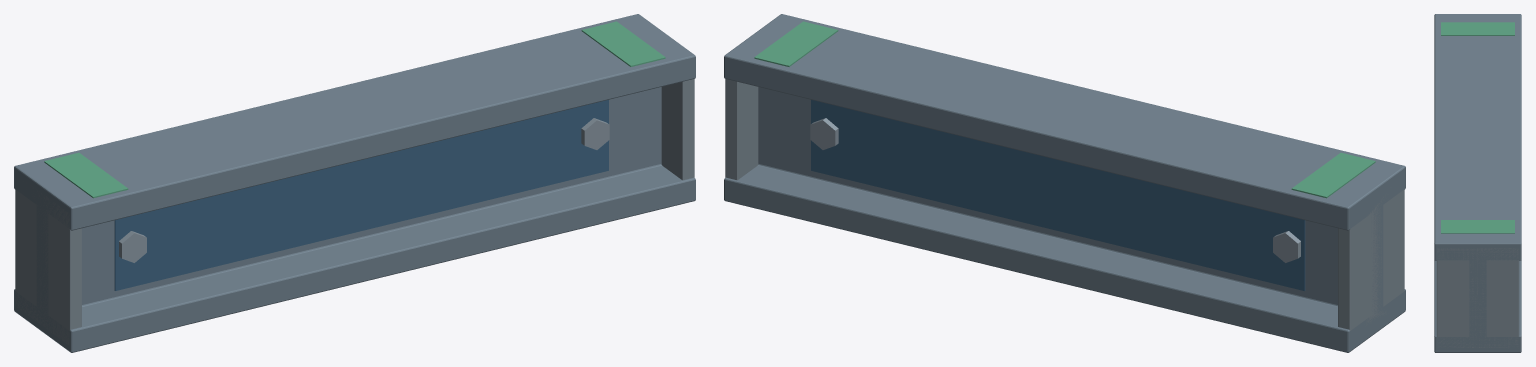
The model's file is beam.glb.
The picture shows the model from 3 angles, left to right: view 1: azimuth 30°, elevation 25°; view 2: azimuth 150°, elevation 25°; view 3: azimuth 270°, elevation 25°; orthographic projection. The views are drawn at different scales.
Visible parts, largest first — view 1: beam; view 2: beam; view 3: beam.
Boxes of the visible parts, x1,y1,x2,y2 form: beam: [14, 14, 695, 352]; beam: [724, 14, 1405, 352]; beam: [1434, 14, 1521, 352].
Size of the model in its own units: 1 by 0.225 by 0.16.
